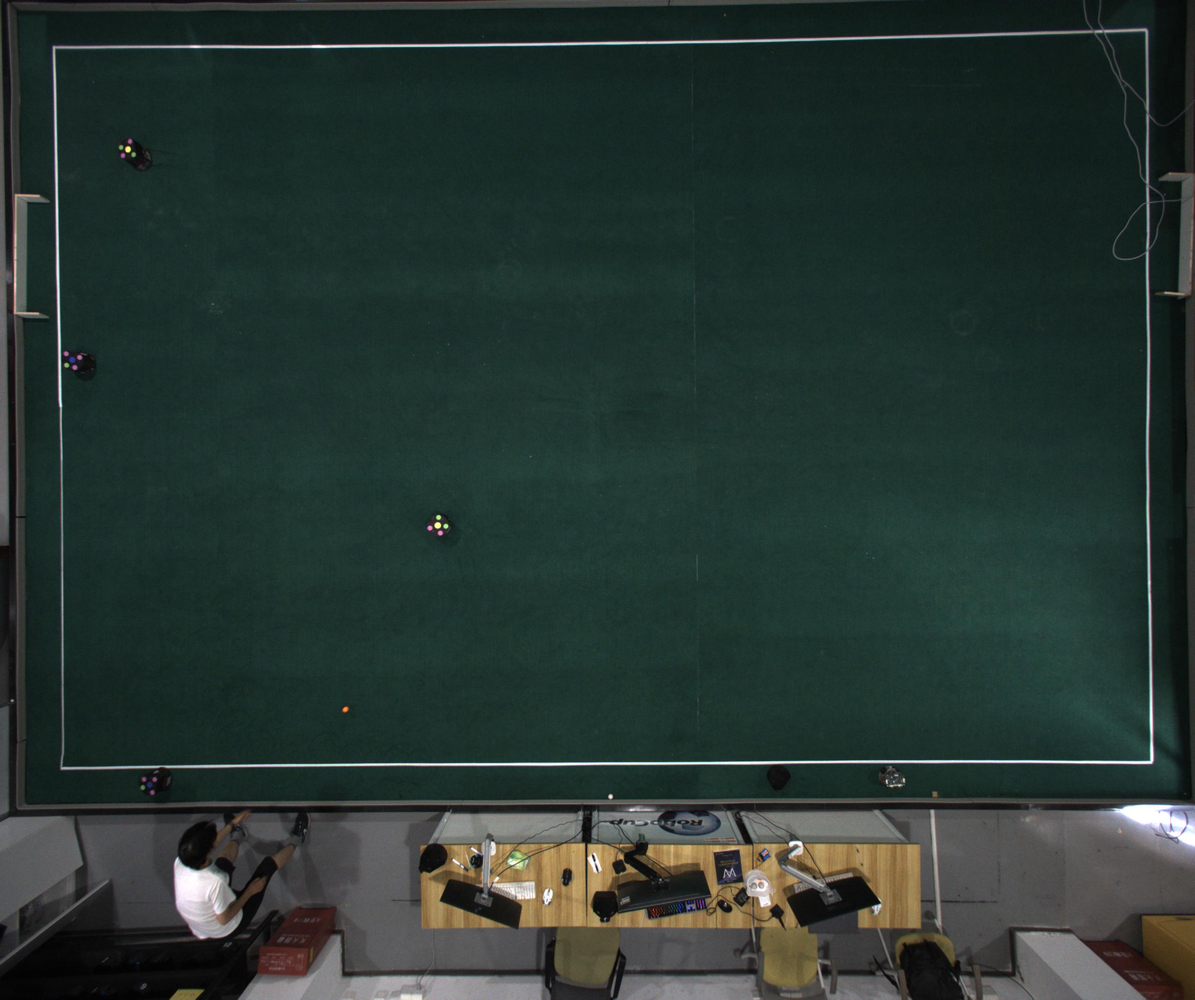ball: (342, 707, 348, 712)
blue_bot: (62, 350, 83, 371), (139, 774, 159, 795)
yellow_bot: (428, 514, 449, 537), (119, 138, 138, 160)
